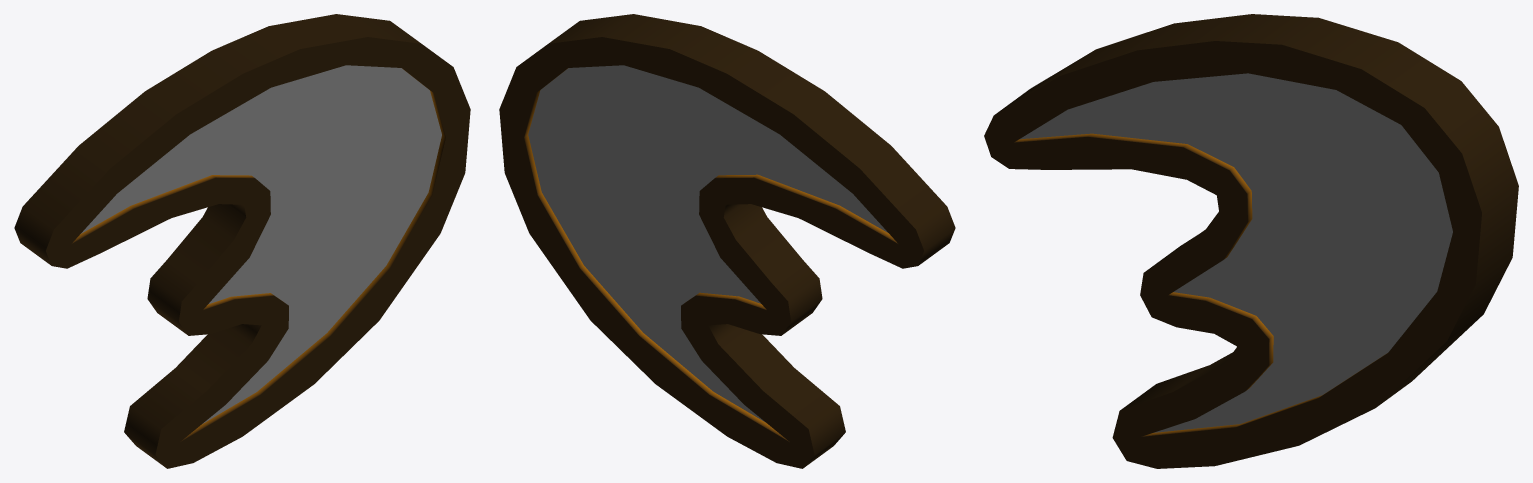
The model's file is Pickup_Buff_Speed.fbx.
The picture shows the model from 3 angles, left to right: view 1: azimuth 30°, elevation 25°; view 2: azimuth 150°, elevation 25°; view 3: azimuth 330°, elevation 25°; orthographic projection. The views are drawn at different scales.
Parts seen in each view (by area): view 1: Pickup_Buff_Speed; view 2: Pickup_Buff_Speed; view 3: Pickup_Buff_Speed.
Part boxes in pixels (box(x1,y1,x2,y2)): Pickup_Buff_Speed: box(14, 14, 470, 468); Pickup_Buff_Speed: box(499, 14, 955, 468); Pickup_Buff_Speed: box(984, 14, 1518, 468).
Size of the model in its own units: 0.8874 by 0.7741 by 0.1135.
